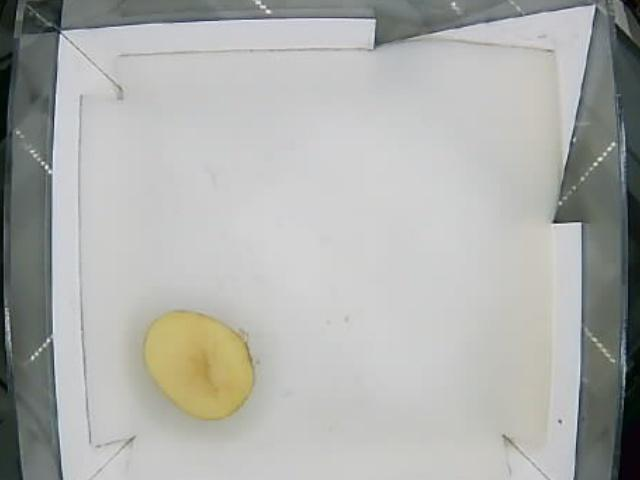Potato: (144, 309, 255, 417)
